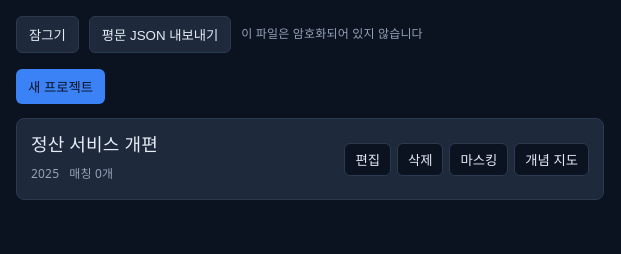
Test: ResumeView — 저장 실패 배너와 잠그기 확인 › shows removeProject's failure via a persistent banner, and 닫기 dismisses it
This screenshot has width=621, height=254.
Click the button "삭제" at x=420, y=159, box [397,143,443,176]
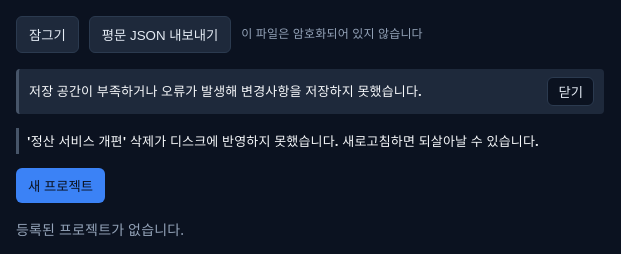
Check: the message "저장 공간이 부족하거나 오류가 발생해 변경사항을 저장하지 못했습니다. 닫기" is shown, box [16,69,604,114]
Check: the message reads "저장 공간이 부족하거나 오류가 발생해 변경사항을 저장하지 못했습니다. 닫기", box [29,82,422,100]
Click the button "닫기" at x=571, y=92, box [548,77,594,106]
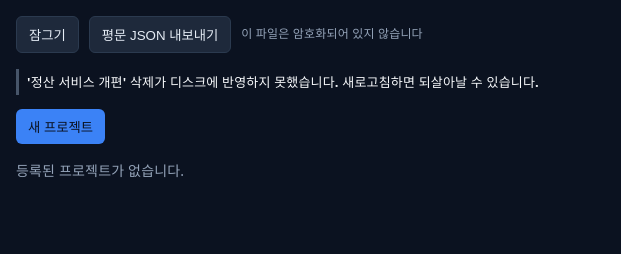
Check: the message "저장 공간이 부족하거나 오류가 발생해 변경사항을 저장하지 못했습니다. 닫기" is gone
